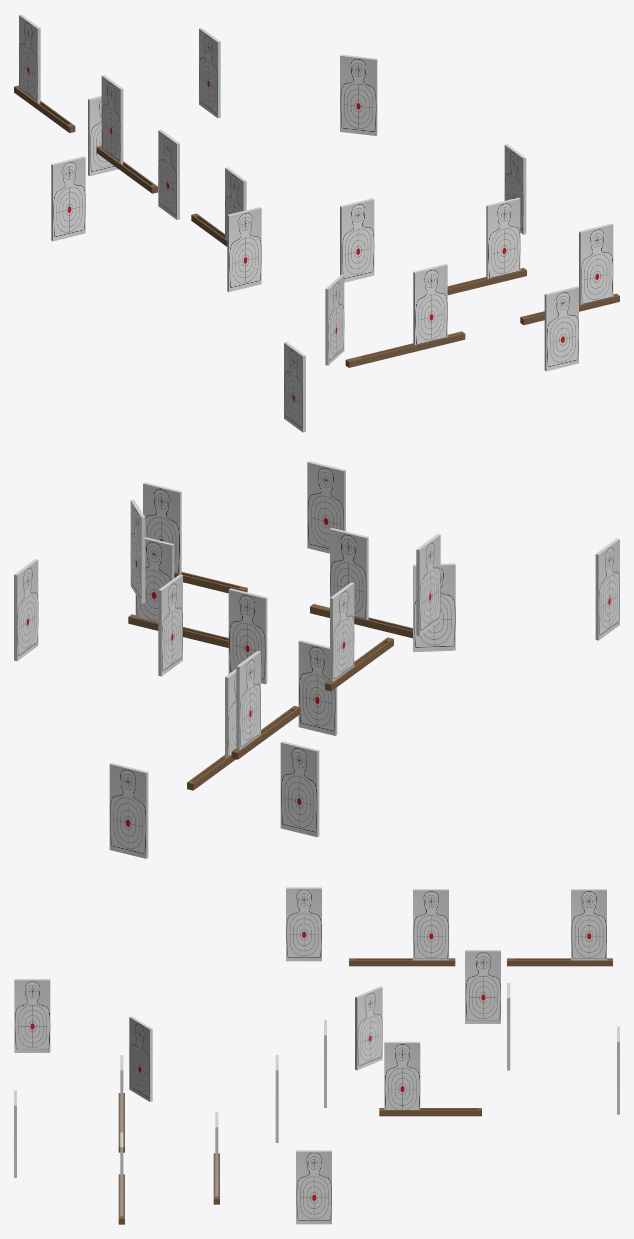
The model's file is Killhouse Targets.fbx.
3 renders of one model, top to bottom at view 1: azimuth 30°, elevation 25°; view 2: azimuth 150°, elevation 25°; view 3: azimuth 270°, elevation 25°, orthographic. The views are drawn at different scales.
Visible parts, largest first — view 1: Still Target.009, Still Target.005, Still Target.016, Still Target.001, Still Target.010, Still Target.013, Still Target.011, Still Target.012, Still Target.004, Still Target.002, Still Target.003, Still Target.015 (+9 smaller); view 2: Still Target.005, Still Target.017, Still Target.016, Still Target.001, Still Target.010, Still Target.013, Still Target.012, Still Target.014, Still Target.002, Still Target.003, Still Target.015, Still Target (+11 smaller); view 3: Still Target.002, Still Target, Still Target.003, Still Target.015, Still Target.004, Still Target.008, Still Target.006, Still Target.009, Still Target.014, Moving Target .005, Moving Target .001, Moving Target .003.
Boxes of the visible parts, bbox=[...] form: Still Target.009: bbox=[340, 54, 377, 135]; Still Target.005: bbox=[51, 156, 85, 241]; Still Target.016: bbox=[227, 207, 261, 291]; Still Target.001: bbox=[544, 286, 578, 371]; Still Target.010: bbox=[340, 198, 374, 282]; Still Target.013: bbox=[413, 264, 447, 345]; Still Target.011: bbox=[486, 197, 520, 278]; Still Target.012: bbox=[579, 223, 613, 304]; Still Target.004: bbox=[101, 75, 123, 164]; Still Target.002: bbox=[284, 342, 305, 432]; Still Target.003: bbox=[158, 129, 179, 219]; Still Target.015: bbox=[199, 28, 220, 118]; Still Target.005: bbox=[280, 741, 319, 837]; Still Target.017: bbox=[109, 763, 148, 858]; Still Target.016: bbox=[298, 640, 337, 735]; Still Target.001: bbox=[307, 461, 345, 553]; Still Target.010: bbox=[228, 588, 267, 684]; Still Target.013: bbox=[330, 528, 368, 619]; Still Target.012: bbox=[143, 482, 181, 574]; Still Target.014: bbox=[413, 563, 455, 652]; Still Target.002: bbox=[595, 538, 619, 640]; Still Target.003: bbox=[416, 534, 440, 635]; Still Target.015: bbox=[158, 574, 182, 676]; Still Target: bbox=[14, 559, 38, 660]; Still Target.002: bbox=[14, 979, 50, 1052]; Still Target: bbox=[296, 1150, 331, 1224]; Still Target.003: bbox=[286, 887, 321, 961]; Still Target.015: bbox=[465, 950, 500, 1023]; Still Target.004: bbox=[413, 889, 448, 960]; Still Target.008: bbox=[571, 889, 606, 960]; Still Target.006: bbox=[384, 1041, 420, 1109]; Still Target.009: bbox=[355, 986, 382, 1070]; Still Target.014: bbox=[129, 1016, 152, 1101]; Moving Target .005: bbox=[349, 958, 455, 966]; Moving Target .001: bbox=[507, 958, 612, 966]; Moving Target .003: bbox=[379, 1108, 481, 1116].
Size of the model in its own units: 1008 by 476 by 1492.
